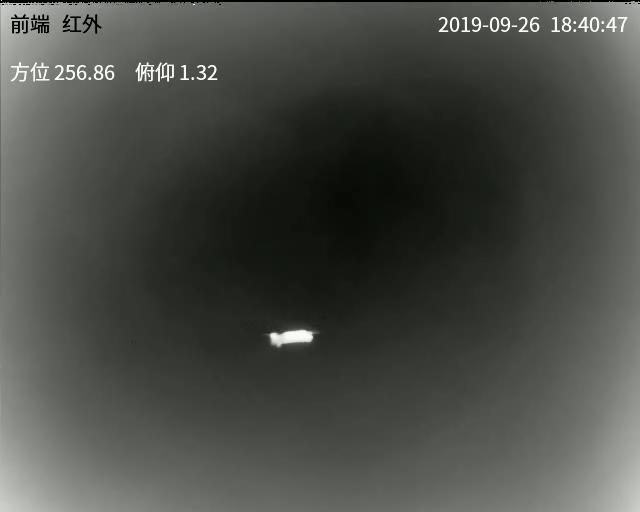uav: (260, 328, 321, 351)
